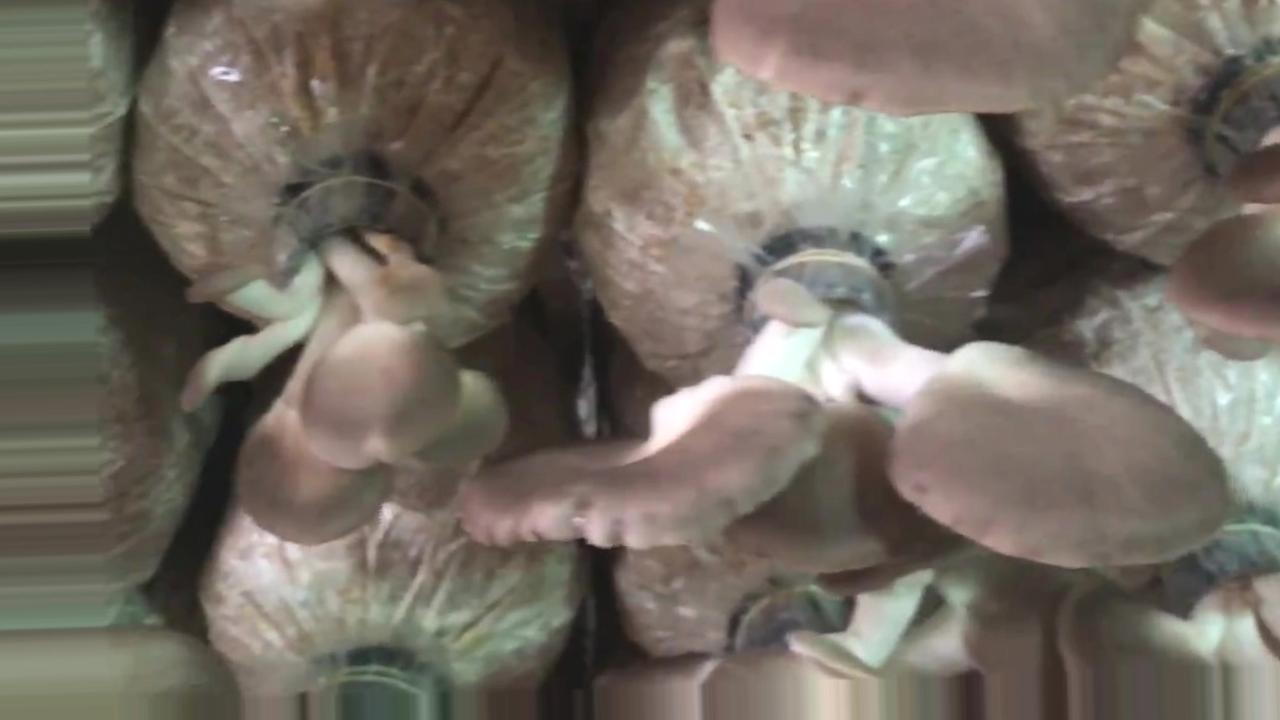nam: (461, 230, 1232, 567), (186, 163, 509, 549), (718, 12, 1125, 116), (1174, 62, 1280, 340)
